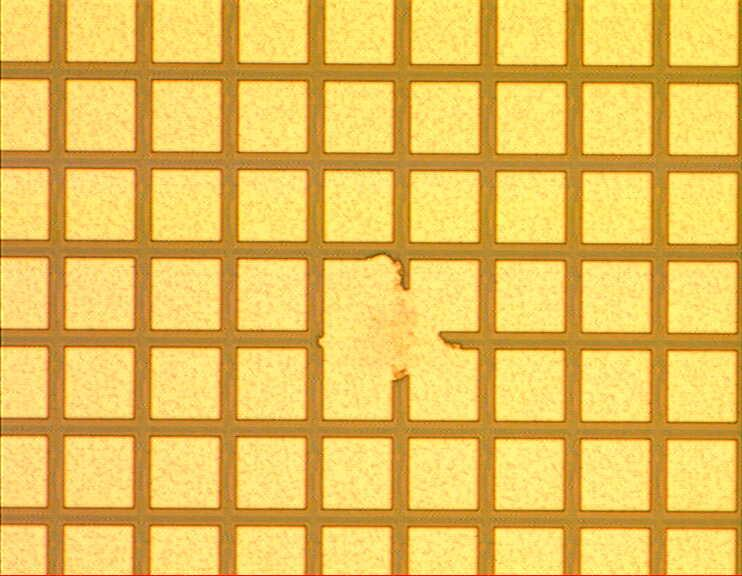BLOCK ETCH: (318, 254, 463, 384)
